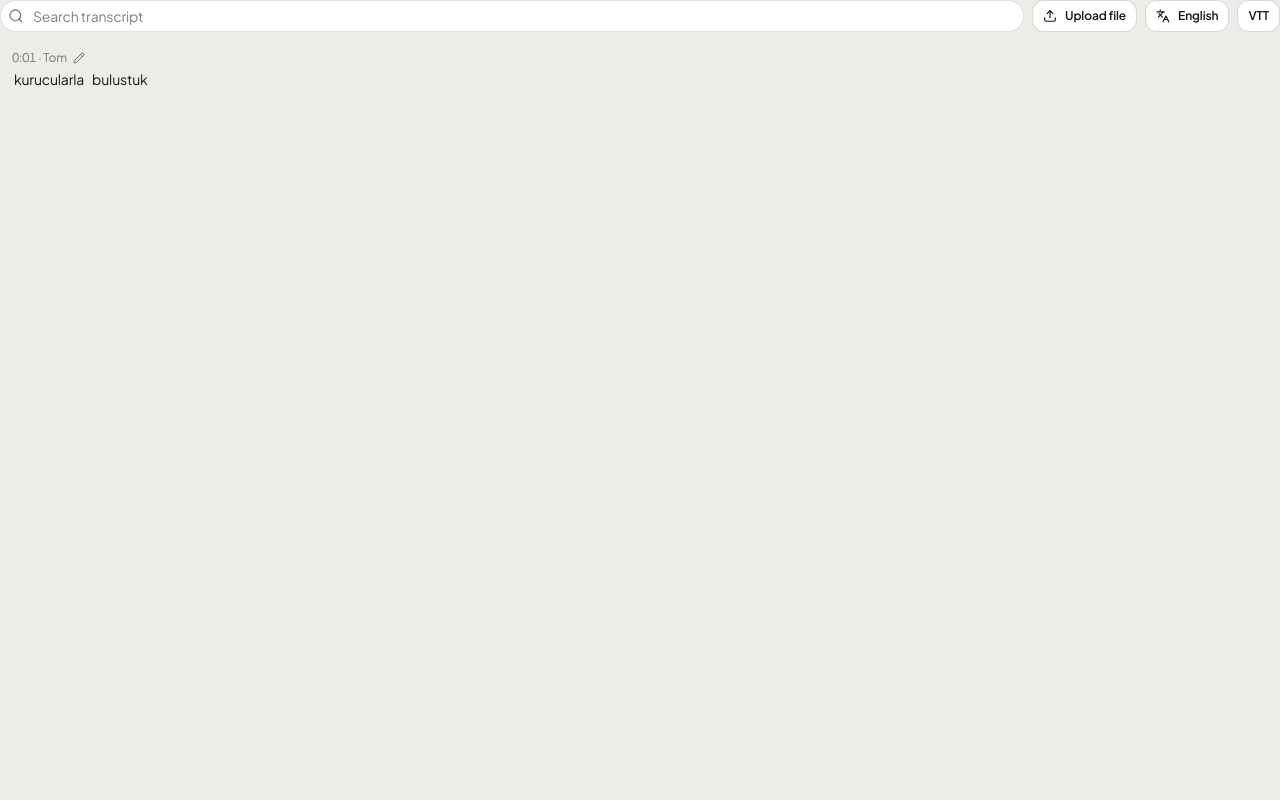
Test case: TranscriptPane line editing › warns without blocking when the rebuild reported quota
Expected: the button "kurucularla" is shown, x1=12 y1=68 x2=86 y2=91
Click the button named "Edit line": (79, 58) x1=71 y1=50 x2=87 y2=66
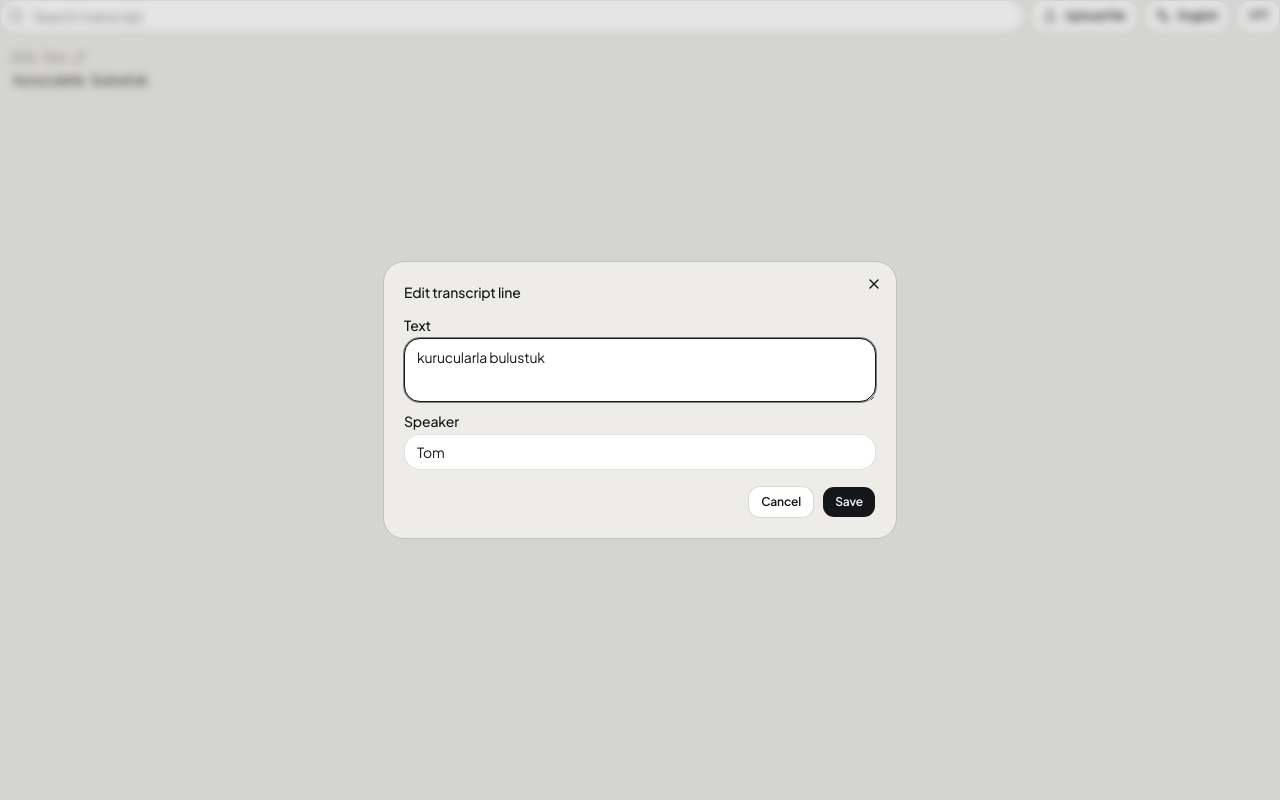
Replace the text in the text box labelled "Text" with "kuruculari bulduk": (640, 370) x1=404 y1=338 x2=876 y2=402
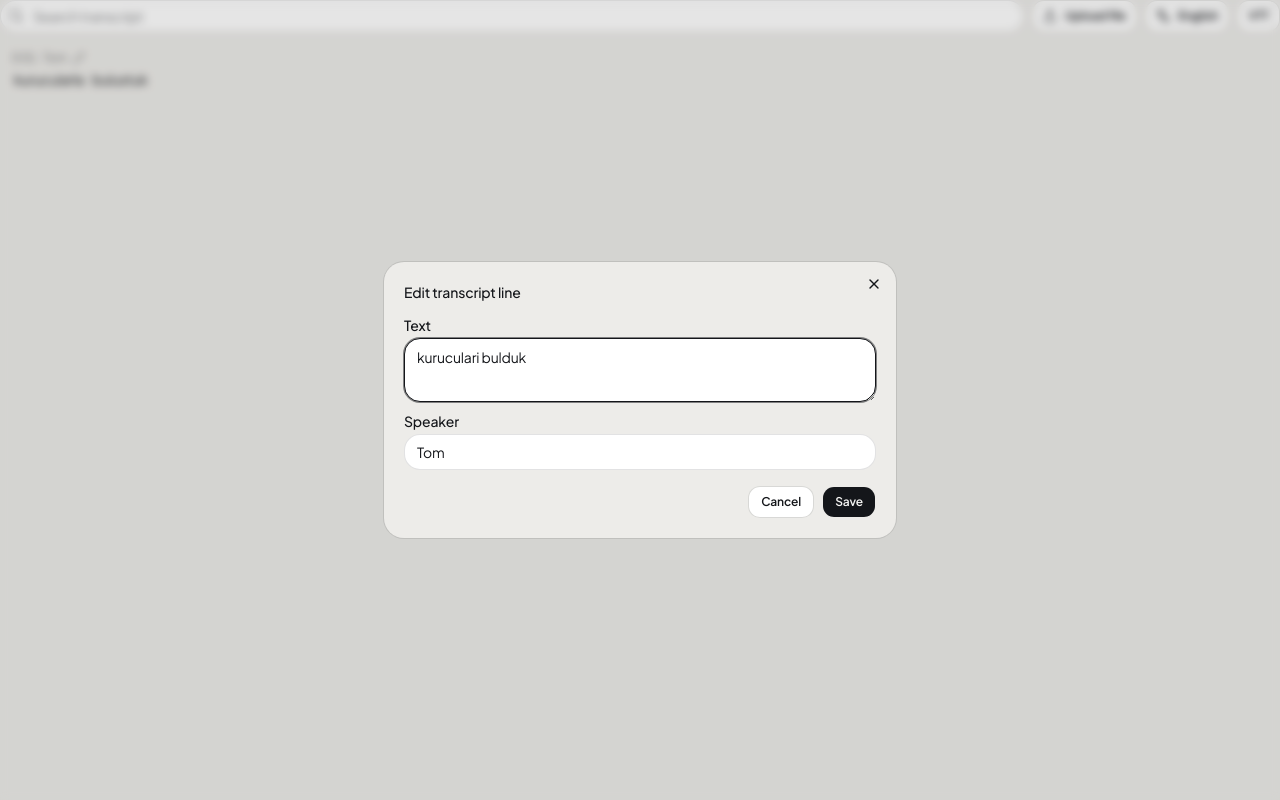
Click the button "Save": (849, 502) x1=822 y1=486 x2=876 y2=518
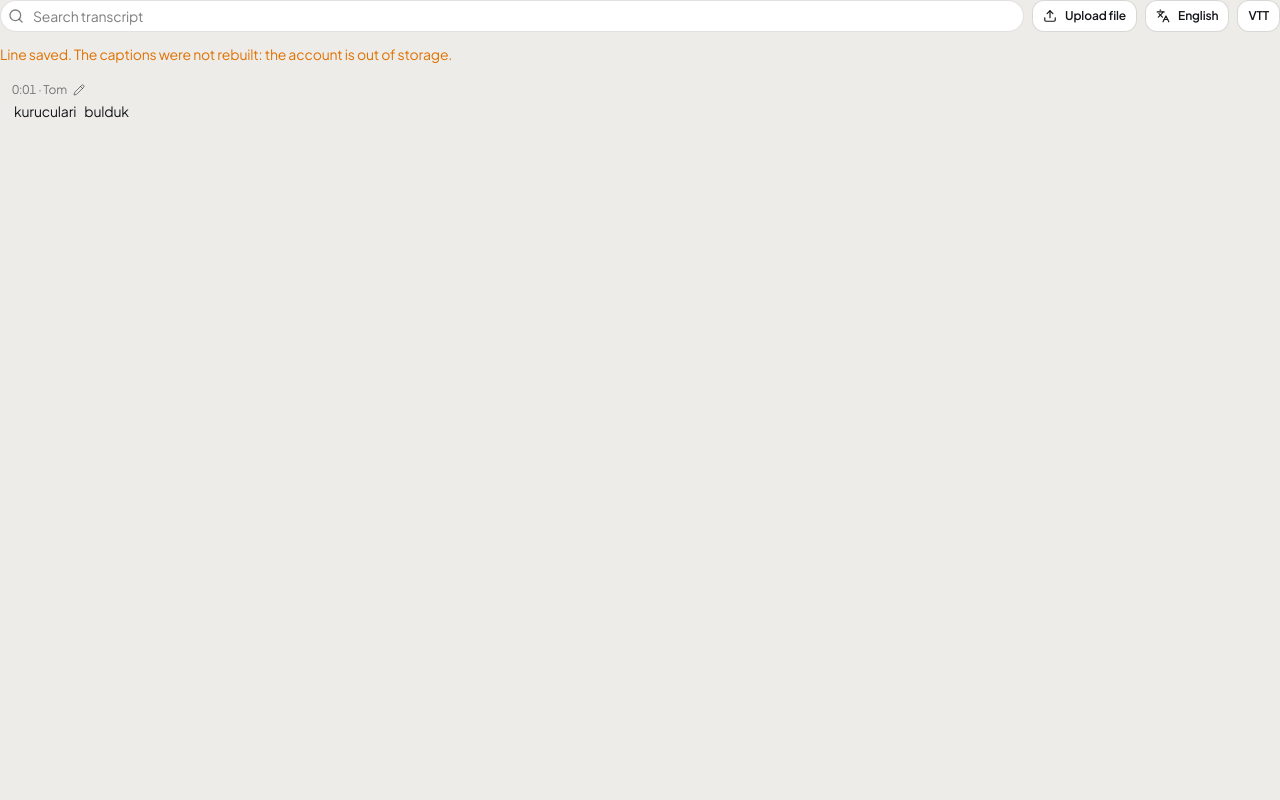
Expected: the dialog is gone
Expected: the button "kuruculari" is shown, x1=12 y1=100 x2=78 y2=123
Expected: the message reads "Line saved. The captions were not rebuilt: the account is out of storage.", x1=0 y1=45 x2=452 y2=63
